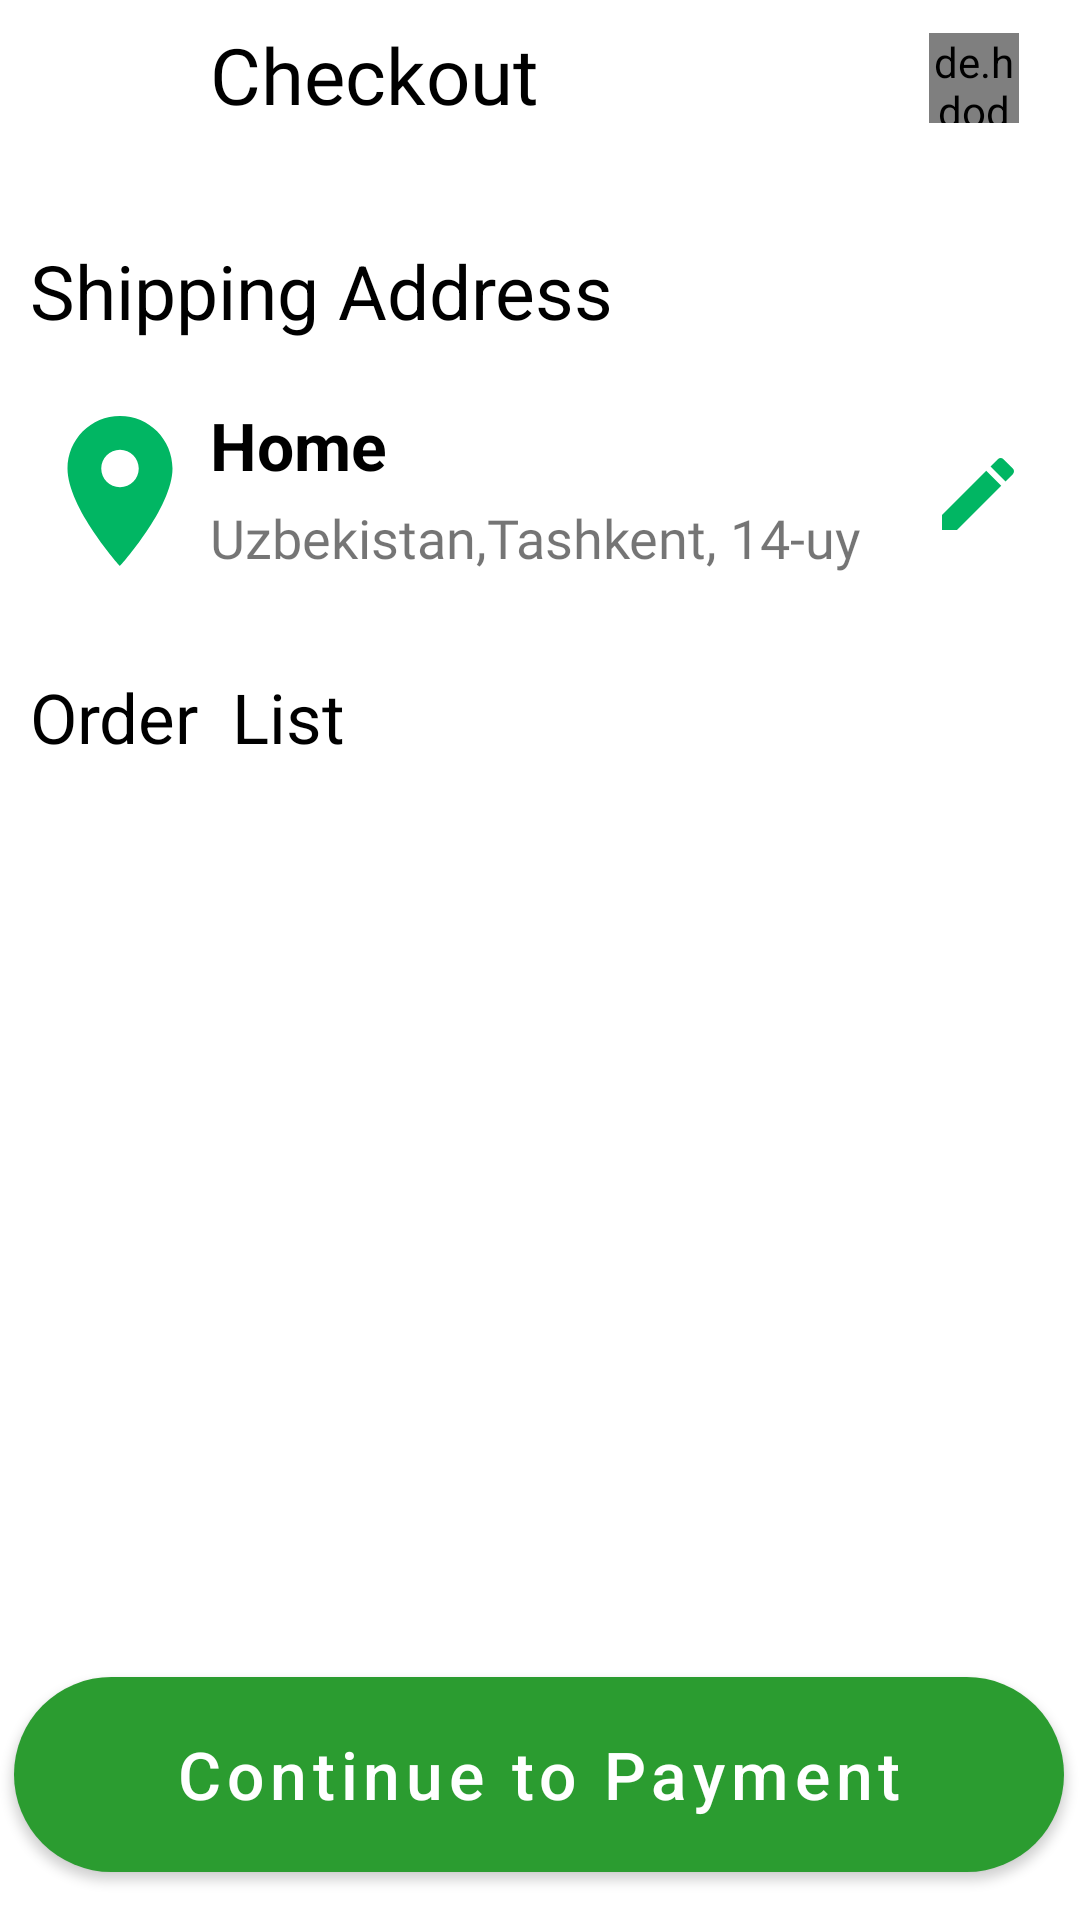

Icons on this 1080px x 1920px Android screen, each with its box as (x1, y1, x2, y2):
edit: (942, 458, 1014, 530)
location on: (67, 416, 173, 566)
